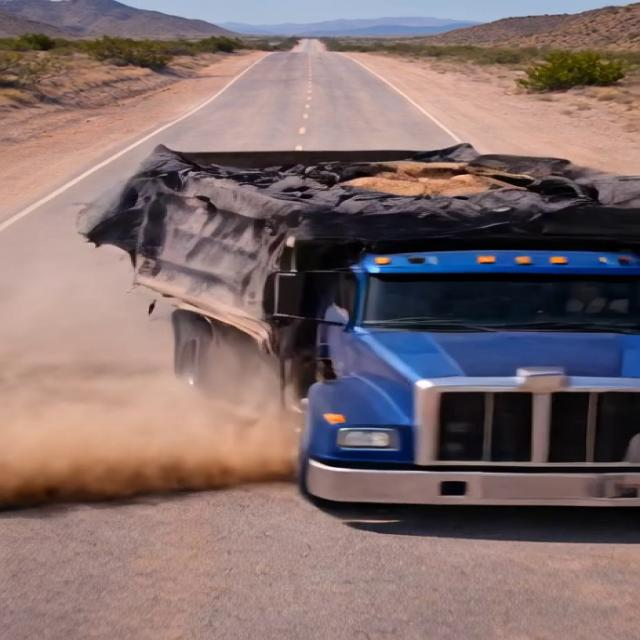Box: (83, 137, 635, 230)
Truck: (55, 101, 639, 523)
